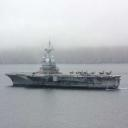Portanaves: (4, 37, 122, 92)
